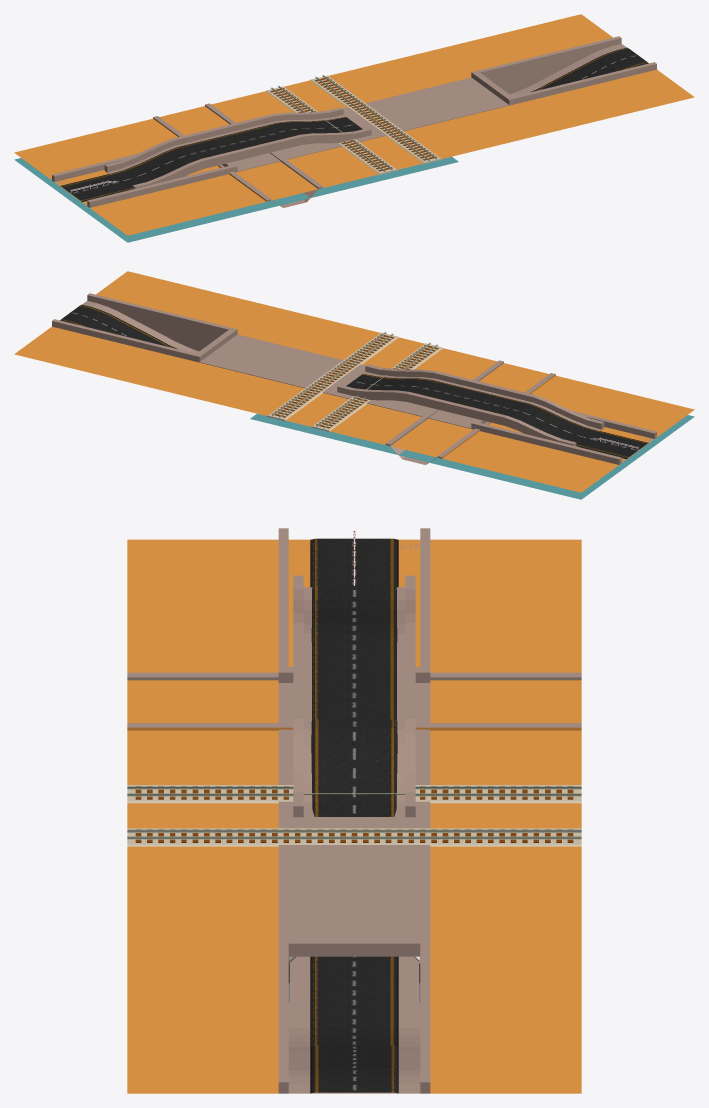
File: AdvancedTiles .fbx
The picture shows the model from 3 angles, top to bottom: view 1: azimuth 30°, elevation 25°; view 2: azimuth 150°, elevation 25°; view 3: azimuth 270°, elevation 25°; orthographic projection. The views are drawn at different scales.
Parts seen in each view (by area): view 1: SM_Underpass, SM_CanalMid, SM_RoadBridgeMid, Water, SM_RoadTunel; view 2: SM_Underpass, SM_CanalMid, SM_RoadBridgeMid, Water, SM_RoadTunel; view 3: SM_Underpass, SM_CanalMid, SM_RoadBridgeMid, SM_RoadTunel.
Part boxes in pixels (x1,y1,x2,y2): SM_Underpass: (14,14,694,235); SM_CanalMid: (15,71,458,235); SM_RoadBridgeMid: (60,117,362,201); Water: (14,156,458,242); SM_RoadTunel: (531,47,648,91); SM_Underpass: (14,271,694,491); SM_CanalMid: (250,328,694,492); SM_RoadBridgeMid: (346,374,648,458); Water: (250,413,694,499); SM_RoadTunel: (60,304,177,348); SM_Underpass: (127,528,581,1093); SM_CanalMid: (127,539,581,860); SM_RoadBridgeMid: (310,538,398,816); SM_RoadTunel: (310,956,398,1093).
Size of what is drawn, in the model's own units: 4000 by 11532 by 771.
3 materials, 2 textured.
